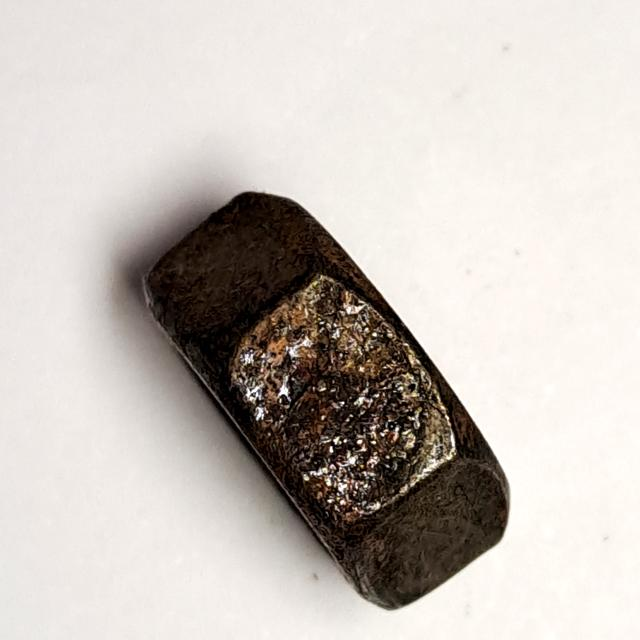Side_Rust: (126, 176, 542, 629)
